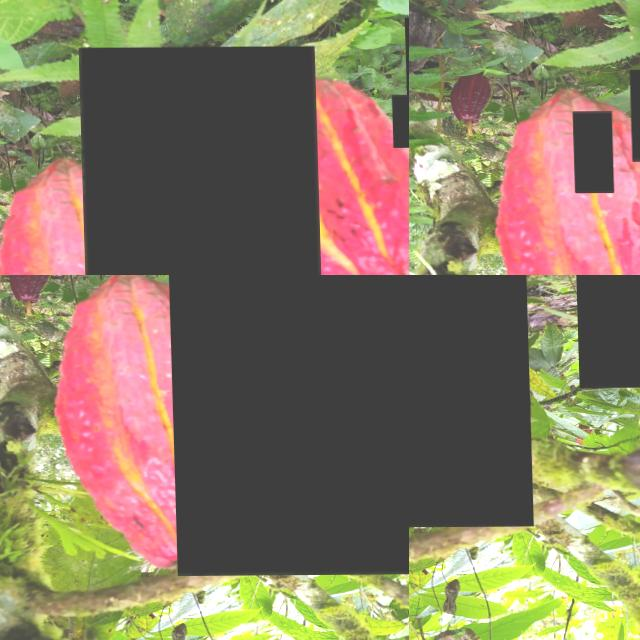Sana: (163, 275, 409, 576), (78, 47, 322, 275), (409, 275, 530, 528), (572, 112, 612, 194), (594, 222, 633, 275), (615, 158, 640, 227), (543, 32, 587, 67), (628, 70, 640, 162), (391, 95, 409, 148), (566, 34, 584, 53)
